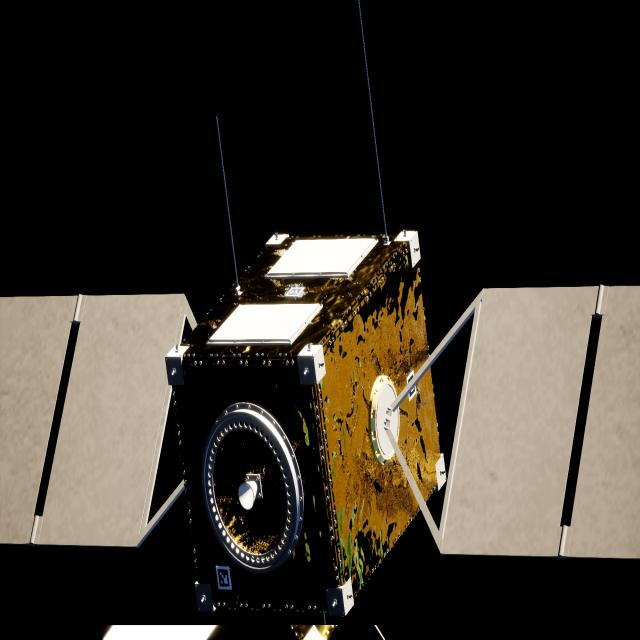medium_debris: (0, 231, 640, 626)
